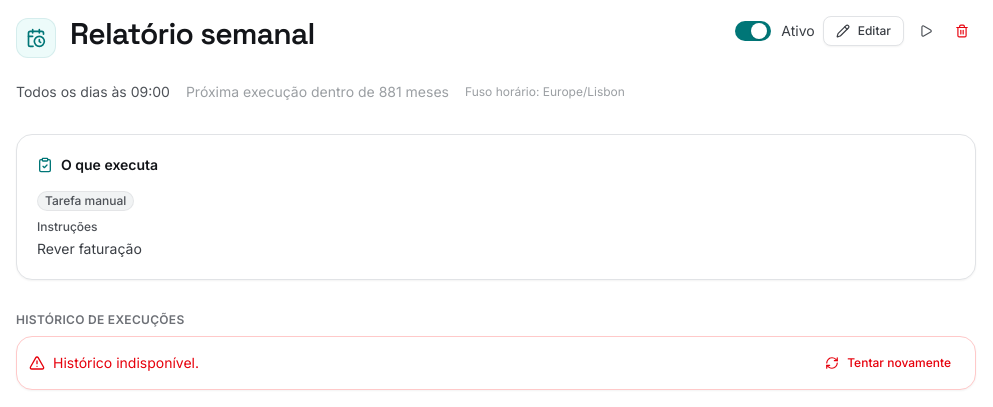
it: run history › shows the failure with a retry instead of a spinner that never resolves
This screenshot has width=993, height=407.
Expected: the text "Histórico indisponível." is shown, top-left (53, 353), bottom-right (199, 373)
Click the button "Tentar novamente" at point(888, 363), box top-left (813, 349), bottom-right (963, 377)
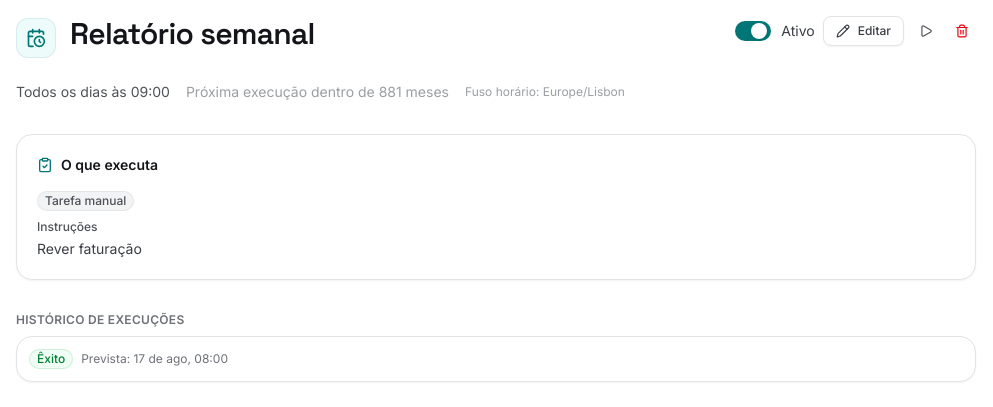
Result: the element with test id "schedule-run-row" is shown at top-left (16, 336), bottom-right (976, 382)
Result: the element with test id "schedule-history-error" is gone
